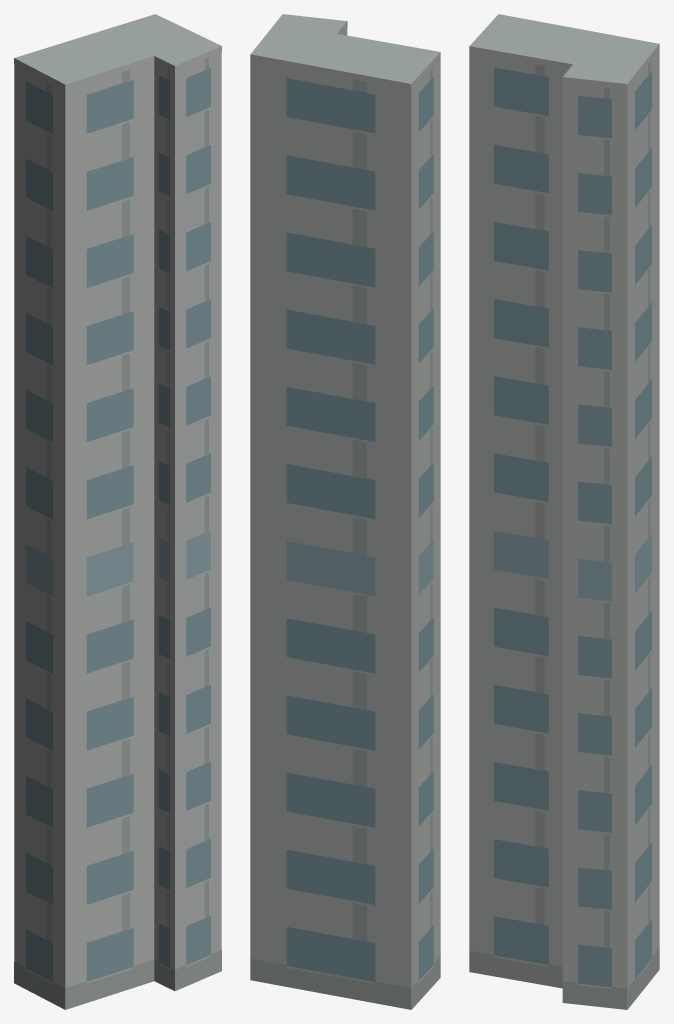
File: survey-upis-32925035.glb
3 views of the same model, side by side, from view 1: azimuth 30°, elevation 25°; view 2: azimuth 150°, elevation 25°; view 3: azimuth 330°, elevation 25° (orthographic).
Visible parts, largest first — view 1: survey-upis-32925035.tmp; view 2: survey-upis-32925035.tmp; view 3: survey-upis-32925035.tmp.
Boxes of the visible parts, <box> form: survey-upis-32925035.tmp: <box>14,14,221,1009</box>; survey-upis-32925035.tmp: <box>250,14,440,1009</box>; survey-upis-32925035.tmp: <box>469,14,659,1009</box>.
Size of the model in its own units: 6.97 by 36.6 by 4.18.
